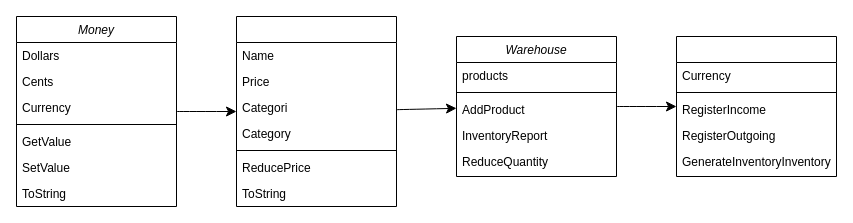
The diagram is 853 pixels wide and 223 high, and some of its shapes have lost their labels. The box of each missing label's shape, as (x1, y1, x2, y2) in pixels:
Product: (236, 16, 396, 206)
Reporting: (676, 36, 836, 176)
